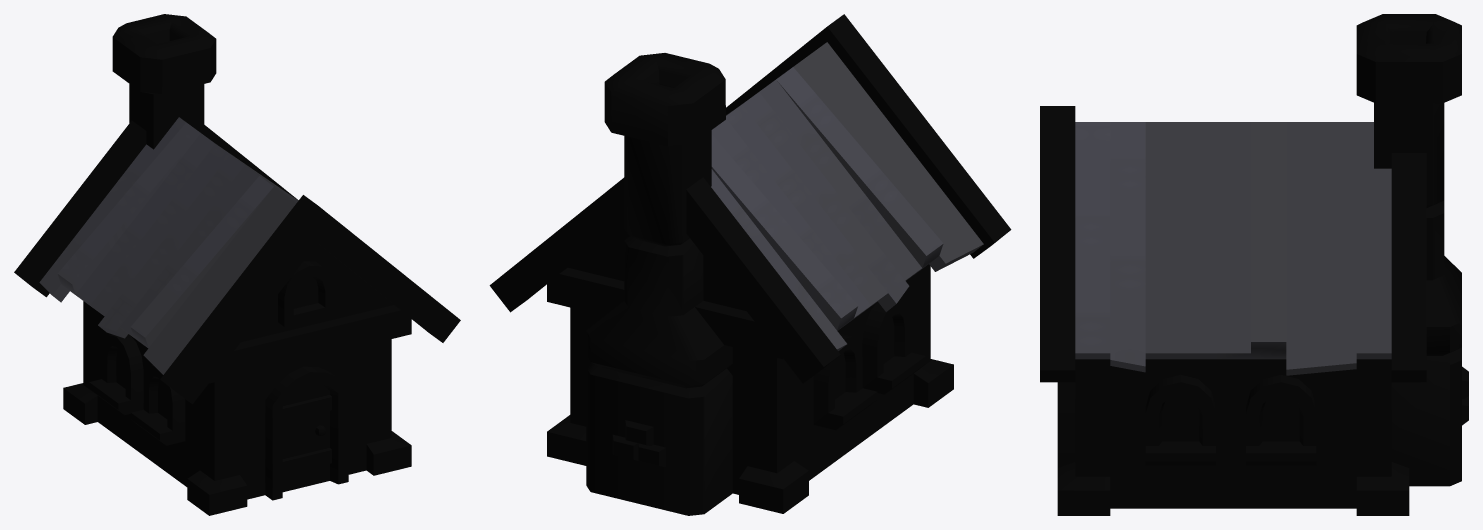
The model's file is cottage.glb.
3 renders of one model, left to right at view 1: azimuth 30°, elevation 25°; view 2: azimuth 150°, elevation 25°; view 3: azimuth 270°, elevation 25°, orthographic. The views are drawn at different scales.
Parts seen in each view (by area): view 1: building_home_A_blue; view 2: building_home_A_blue; view 3: building_home_A_blue.
Part boxes in pixels (x1=…): building_home_A_blue: x1=14, y1=14, x2=460, y2=515; building_home_A_blue: x1=489, y1=14, x2=1011, y2=515; building_home_A_blue: x1=1040, y1=14, x2=1468, y2=515.
Bounding box in the file's own units: 0.792 × 0.93 × 0.8537.
Materials: 1 (1 with a texture image).
